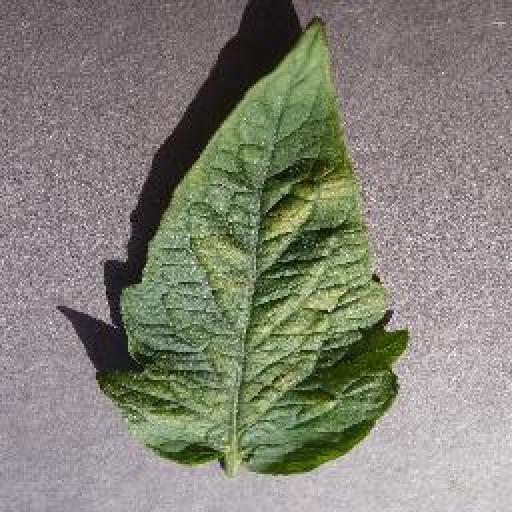disease_tomato: (102, 17, 409, 476)
